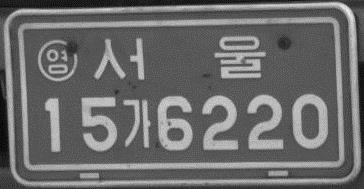0: (290, 92, 328, 150)
1: (41, 96, 68, 153)
2: (201, 93, 242, 153), (245, 91, 284, 151)
5: (78, 95, 119, 153)
6: (155, 93, 194, 152)
가: (120, 97, 154, 150)
서울_D: (91, 34, 267, 81)
영: (36, 38, 81, 84)
